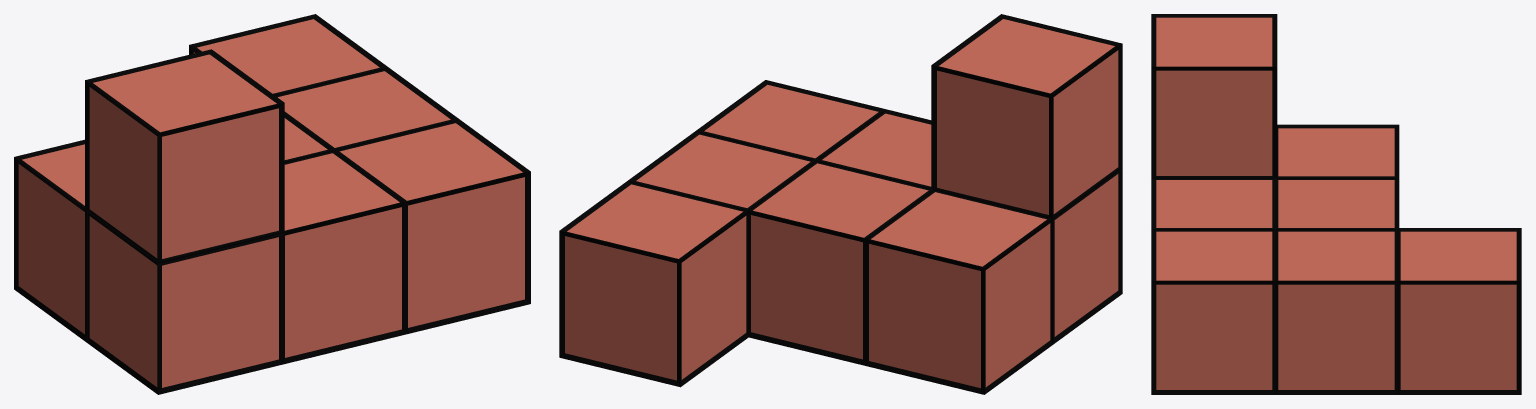
The picture shows the model from 3 angles, left to right: view 1: azimuth 30°, elevation 25°; view 2: azimuth 150°, elevation 25°; view 3: azimuth 270°, elevation 25°; orthographic projection. The views are drawn at different scales.
Visible parts, largest first — view 1: d3:Mesh; view 2: d3:Mesh; view 3: d3:Mesh.
Boxes of the visible parts, <box> form: d3:Mesh: <box>14,14,530,394</box>; d3:Mesh: <box>559,14,1122,394</box>; d3:Mesh: <box>1151,14,1521,394</box>.
Size of the model in its own units: 6.06 by 4.06 by 6.06.
